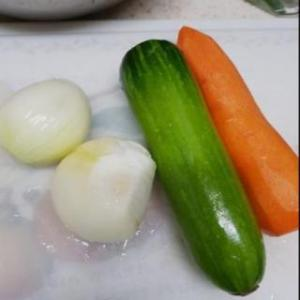carrot: (174, 23, 298, 238)
onion: (46, 136, 157, 248), (4, 76, 94, 172)
